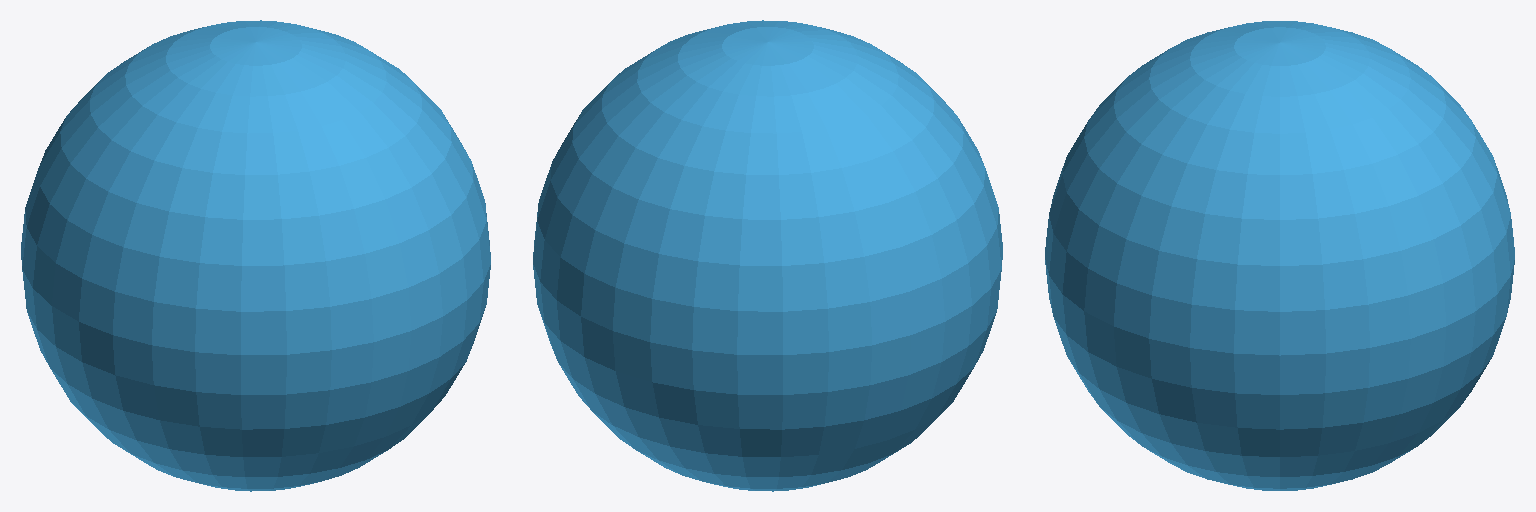
URDF robot description (g1_single_arm):
<robot name="g1_single_arm">
  <link name="world"/>

  <link name="torso_link">
    <inertial>
      <origin xyz="0.002601 0.000257 0.153719" rpy="0 0 0"/>
      <mass value="8.562"/>
      <inertia ixx="0.065674966" ixy="-8.597E-05" ixz="-0.001737252" iyy="0.053535188" iyz="8.6899E-05" izz="0.030808125"/>
    </inertial>
    <visual>
      <origin xyz="0 0 0" rpy="0 0 0"/>
      <geometry>
        <mesh filename="package://robot_digital_twin/meshes/g1/torso_link.STL"/>
      </geometry>
      <material name="white">
        <color rgba="0.7 0.7 0.7 1"/>
      </material>
    </visual>
    <collision>
      <origin xyz="0 0 0" rpy="0 0 0"/>
      <geometry>
        <mesh filename="package://robot_digital_twin/meshes/g1/torso_link.STL"/>
      </geometry>
    </collision>
  </link>

  <joint name="waist_pitch_joint" type="revolute">
    <origin xyz="0 0 0.019" rpy="0 0 0"/>
    <parent link="world"/>
    <child link="torso_link"/>
    <axis xyz="0 1 0"/>
    <limit lower="-0.52" upper="0.52" effort="50" velocity="37"/>
  </joint>

  <!-- LOGO -->
  <joint name="logo_joint" type="fixed">
    <origin xyz="0.0039635 0 -0.054" rpy="0 0 0"/>
    <parent link="torso_link"/>
    <child link="logo_link"/>
  </joint>
  <link name="logo_link">
    <inertial>
      <origin xyz="0 0 0" rpy="0 0 0"/>
      <mass value="0.001"/>
      <inertia ixx="1e-7" ixy="0" ixz="0" iyy="1e-7" iyz="0" izz="1e-7"/>
    </inertial>
    <visual>
      <origin xyz="0 0 0" rpy="0 0 0"/>
      <geometry>
        <mesh filename="package://robot_digital_twin/meshes/g1/logo_link.STL"/>
      </geometry>
      <material name="dark">
        <color rgba="0.2 0.2 0.2 1"/>
      </material>
    </visual>
    <collision>
      <origin xyz="0 0 0" rpy="0 0 0"/>
      <geometry>
        <mesh filename="package://robot_digital_twin/meshes/g1/logo_link.STL"/>
      </geometry>
    </collision>
  </link>

  <!-- Head -->
  <link name="head_link">
    <inertial>
      <origin xyz="0.005267 0.000299 0.449869" rpy="0 0 0"/>
      <mass value="1.036"/>
      <inertia ixx="0.004085051" ixy="-2.543E-06" ixz="-6.9455E-05" iyy="0.004185212" iyz="-3.726E-06" izz="0.001807911"/>
    </inertial>
    <visual>
      <origin xyz="0 0 0" rpy="0 0 0"/>
      <geometry>
        <mesh filename="package://robot_digital_twin/meshes/g1/head_link.STL"/>
      </geometry>
      <material name="dark">
        <color rgba="0.2 0.2 0.2 1"/>
      </material>
    </visual>
    <collision>
      <origin xyz="0 0 0" rpy="0 0 0"/>
      <geometry>
        <mesh filename="package://robot_digital_twin/meshes/g1/head_link.STL"/>
      </geometry>
    </collision>
  </link>
  <joint name="head_joint" type="fixed">
    <origin xyz="0.0039635 0 -0.054" rpy="0 0 0"/>
    <parent link="torso_link"/>
    <child link="head_link"/>
  </joint>

  <!-- Arm -->
  <link name="right_shoulder_pitch_link">
    <inertial>
      <origin xyz="0 -0.035892 -0.011628" rpy="0 0 0"/>
      <mass value="0.718"/>
      <inertia ixx="0.0004291" ixy="9.2E-06" ixz="6.4E-06" iyy="0.000453" iyz="-2.26E-05" izz="0.000423"/>
    </inertial>
    <visual>
      <origin xyz="0 0 0" rpy="0 0 0"/>
      <geometry>
        <mesh filename="package://robot_digital_twin/meshes/g1/right_shoulder_pitch_link.STL"/>
      </geometry>
      <material name="white">
        <color rgba="0.7 0.7 0.7 1"/>
      </material>
    </visual>
    <collision>
      <origin xyz="0 -0.04 -0.01" rpy="0 1.5707963267948966 0"/>
      <geometry>
        <cylinder radius="0.03" length="0.05"/>
      </geometry>
    </collision>
  </link>
  <joint name="right_shoulder_pitch_joint" type="revolute">
    <origin xyz="0.0039563 -0.10021 0.23778" rpy="-0.27931 5.4949E-05 0.00019159"/>
    <parent link="torso_link"/>
    <child link="right_shoulder_pitch_link"/>
    <axis xyz="0 1 0"/>
    <limit lower="-3.0892" upper="2.6704" effort="25" velocity="37"/>
  </joint>
  <link name="right_shoulder_roll_link">
    <inertial>
      <origin xyz="-0.000227 -0.00727 -0.063243" rpy="0 0 0"/>
      <mass value="0.643"/>
      <inertia ixx="0.0006177" ixy="1E-06" ixz="8.7E-06" iyy="0.0006912" iyz="5.3E-06" izz="0.0003894"/>
    </inertial>
    <visual>
      <origin xyz="0 0 0" rpy="0 0 0"/>
      <geometry>
        <mesh filename="package://robot_digital_twin/meshes/g1/right_shoulder_roll_link.STL"/>
      </geometry>
      <material name="white">
        <color rgba="0.7 0.7 0.7 1"/>
      </material>
    </visual>
    <collision>
      <origin xyz="-0.004 -0.006 -0.053" rpy="0 0 0"/>
      <geometry>
        <cylinder radius="0.03" length="0.03"/>
      </geometry>
    </collision>
  </link>
  <joint name="right_shoulder_roll_joint" type="revolute">
    <origin xyz="0 -0.038 -0.013831" rpy="0.27925 0 0"/>
    <parent link="right_shoulder_pitch_link"/>
    <child link="right_shoulder_roll_link"/>
    <axis xyz="1 0 0"/>
    <limit lower="-2.2515" upper="1.5882" effort="25" velocity="37"/>
  </joint>
  <link name="right_shoulder_yaw_link">
    <inertial>
      <origin xyz="0.010773 0.002949 -0.072009" rpy="0 0 0"/>
      <mass value="0.734"/>
      <inertia ixx="0.0009988" ixy="-7.9E-06" ixz="0.0001412" iyy="0.0010605" iyz="2.86E-05" izz="0.0004354"/>
    </inertial>
    <visual>
      <origin xyz="0 0 0" rpy="0 0 0"/>
      <geometry>
        <mesh filename="package://robot_digital_twin/meshes/g1/right_shoulder_yaw_link.STL"/>
      </geometry>
      <material name="white">
        <color rgba="0.7 0.7 0.7 1"/>
      </material>
    </visual>
    <collision>
      <origin xyz="0 0 0" rpy="0 0 0"/>
      <geometry>
        <mesh filename="package://robot_digital_twin/meshes/g1/right_shoulder_yaw_link.STL"/>
      </geometry>
    </collision>
  </link>
  <joint name="right_shoulder_yaw_joint" type="revolute">
    <origin xyz="0 -0.00624 -0.1032" rpy="0 0 0"/>
    <parent link="right_shoulder_roll_link"/>
    <child link="right_shoulder_yaw_link"/>
    <axis xyz="0 0 1"/>
    <limit lower="-2.618" upper="2.618" effort="25" velocity="37"/>
  </joint>
  <link name="right_elbow_link">
    <inertial>
      <origin xyz="0.064956 -0.004454 -0.010062" rpy="0 0 0"/>
      <mass value="0.6"/>
      <inertia ixx="0.0002891" ixy="-6.53E-05" ixz="1.72E-05" iyy="0.0004152" iyz="5.6E-06" izz="0.0004197"/>
    </inertial>
    <visual>
      <origin xyz="0 0 0" rpy="0 0 0"/>
      <geometry>
        <mesh filename="package://robot_digital_twin/meshes/g1/right_elbow_link.STL"/>
      </geometry>
      <material name="white">
        <color rgba="0.7 0.7 0.7 1"/>
      </material>
    </visual>
    <collision>
      <origin xyz="0 0 0" rpy="0 0 0"/>
      <geometry>
        <mesh filename="package://robot_digital_twin/meshes/g1/right_elbow_link.STL"/>
      </geometry>
    </collision>
  </link>
  <joint name="right_elbow_joint" type="revolute">
    <origin xyz="0.015783 0 -0.080518" rpy="0 0 0"/>
    <parent link="right_shoulder_yaw_link"/>
    <child link="right_elbow_link"/>
    <axis xyz="0 1 0"/>
    <limit lower="-1.0472" upper="2.0944" effort="25" velocity="37"/>
  </joint>
  <joint name="right_wrist_roll_joint" type="revolute">
    <origin xyz="0.100 -0.00188791 -0.010" rpy="0 0 0"/>
    <axis xyz="1 0 0"/>
    <parent link="right_elbow_link"/>
    <child link="right_wrist_roll_rubber_hand"/>
    <limit effort="25" velocity="37" lower="-1.972222054" upper="1.972222054"/>
  </joint>
  <link name="right_wrist_roll_rubber_hand">
    <inertial>
      <origin xyz="0.10794656650 -0.00163511945 0.00202244863" rpy="0 0 0"/>
      <mass value="0.35692864"/>
      <inertia ixx="0.00019613494735" ixy="0.00000419816908" ixz="-0.00003950860580" iyy="0.00200280358206" iyz="-0.00000249774203" izz="0.00194181412808"/>
    </inertial>
    <visual>
      <origin xyz="0 0 0" rpy="-1.57 0 0"/>
      <geometry>
        <mesh filename="package://robot_digital_twin/meshes/g1/right_wrist_roll_rubber_hand.STL"/>
      </geometry>
      <material name="white">
        <color rgba="0.7 0.7 0.7 1"/>
      </material>
    </visual>
    <collision>
      <origin xyz="0 0 0" rpy="-1.57 0 0"/>
      <geometry>
        <mesh filename="package://robot_digital_twin/meshes/g1/right_wrist_roll_rubber_hand.STL"/>
      </geometry>
    </collision>
  </link>
  <link name="virtual_right_wrist_link">
  <visual>
    <origin xyz="0 0 0" rpy="0 0 0"/>
    <geometry>
      <sphere radius="0.05"/>
      <material name="Red">
        <color rgba="1.0 0. 0. 1"/>
      </material>
    </geometry>
    
  </visual>
  </link>
  <joint name="virtual_right_wrist_joint" type="fixed">
    <parent link="right_wrist_roll_rubber_hand"/>
    <child link="virtual_right_wrist_link"/>
    <origin xyz="0.121 -0.008 0" rpy="0 0 0"/>
  </joint>

  <transmission name = "trans_waist_pitch_joint">
    <type>transmission_interface/SimpleTransmission</type>
    <joint name = "waist_pitch_joint">
      <hardwareInterface>hardware_interface/EffortJointInterface</hardwareInterface>
    </joint>
    <actuator name = "waist_pitch_joint_motor">
      <hardwareInterface>hardware_interface/EffortJointInterface</hardwareInterface>
      <mechanicalReduction>1</mechanicalReduction>
    </actuator>
  </transmission>

  <transmission name = "trans_right_shoulder_pitch_joint">
    <type>transmission_interface/SimpleTransmission</type>
    <joint name = "right_shoulder_pitch_joint">
      <hardwareInterface>hardware_interface/EffortJointInterface</hardwareInterface>
    </joint>
    <actuator name = "right_shoulder_pitch_joint_motor">
      <hardwareInterface>hardware_interface/EffortJointInterface</hardwareInterface>
      <mechanicalReduction>1</mechanicalReduction>
    </actuator>
  </transmission>

  <transmission name = "trans_right_shoulder_roll_joint">
    <type>transmission_interface/SimpleTransmission</type>
    <joint name = "right_shoulder_roll_joint">
      <hardwareInterface>hardware_interface/EffortJointInterface</hardwareInterface>
    </joint>
    <actuator name = "right_shoulder_roll_joint_motor">
      <hardwareInterface>hardware_interface/EffortJointInterface</hardwareInterface>
      <mechanicalReduction>1</mechanicalReduction>
    </actuator>
  </transmission>

  <transmission name = "trans_right_shoulder_yaw_joint">
    <type>transmission_interface/SimpleTransmission</type>
    <joint name = "right_shoulder_yaw_joint">
      <hardwareInterface>hardware_interface/EffortJointInterface</hardwareInterface>
    </joint>
    <actuator name = "right_shoulder_yaw_joint_motor">
      <hardwareInterface>hardware_interface/EffortJointInterface</hardwareInterface>
      <mechanicalReduction>1</mechanicalReduction>
    </actuator>
  </transmission>

  <transmission name = "trans_right_elbow_joint">
    <type>transmission_interface/SimpleTransmission</type>
    <joint name = "right_elbow_joint">
      <hardwareInterface>hardware_interface/EffortJointInterface</hardwareInterface>
    </joint>
    <actuator name = "right_elbow_joint_motor">
      <hardwareInterface>hardware_interface/EffortJointInterface</hardwareInterface>
      <mechanicalReduction>1</mechanicalReduction>
    </actuator>
  </transmission>

  <transmission name = "trans_right_wrist_roll_joint">
    <type>transmission_interface/SimpleTransmission</type>
    <joint name = "right_wrist_roll_joint">
      <hardwareInterface>hardware_interface/EffortJointInterface</hardwareInterface>
    </joint>
    <actuator name = "right_wrist_roll_joint_motor">
      <hardwareInterface>hardware_interface/EffortJointInterface</hardwareInterface>
      <mechanicalReduction>1</mechanicalReduction>
    </actuator>
  </transmission>

  <gazebo>
    <plugin name="gazebo_ros_control" filename="libgazebo_ros_control.so">
      <robotNamespace>/g1_single_arm</robotNamespace>
      <robotSimType>gazebo_ros_control/DefaultRobotHWSim</robotSimType>
    </plugin>
  </gazebo>

  <gazebo reference="virtual_right_wrist_link">
    <material>Gazebo/Red</material>
  </gazebo>

</robot>

--- What the picture shows (computed from the rendered views, not written in the file) ---
The picture shows the robot from 3 angles, left to right: view 1: azimuth 30°, elevation 25°; view 2: azimuth 150°, elevation 25°; view 3: azimuth 270°, elevation 25°; orthographic projection.
Robot: g1_single_arm — 10 links, 9 joints (6 revolute, 3 fixed); root link world; default pose: every joint at zero.
Links seen in each view (by area): view 1: virtual_right_wrist_link; view 2: virtual_right_wrist_link; view 3: virtual_right_wrist_link.
Link boxes in pixels (x1,y1,x2,y2): virtual_right_wrist_link: (21,20,490,491); virtual_right_wrist_link: (533,20,1002,491); virtual_right_wrist_link: (1045,21,1514,490).
Bounding box of the posed robot: 0.1 × 0.1 × 0.1 m (x, y, z).
0 mesh visuals loaded from 8 distinct referenced files (none loaded); not drawn: 8 (reference not matched to a file when rendering).